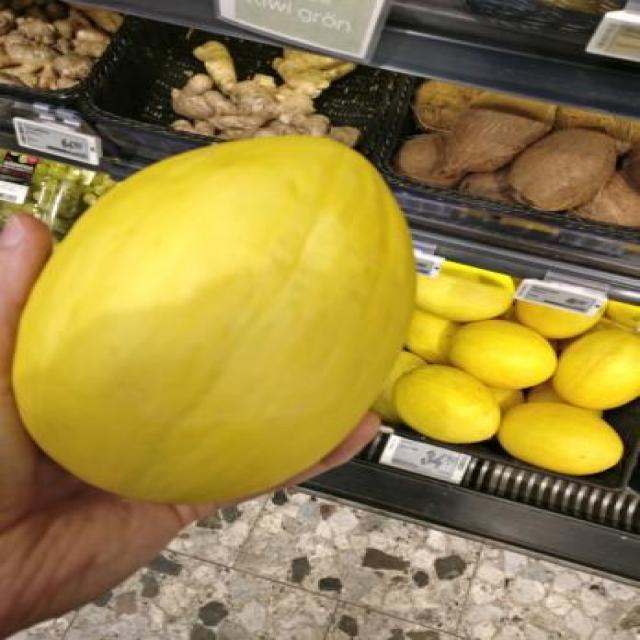Honeydew: (9, 135, 418, 502)
